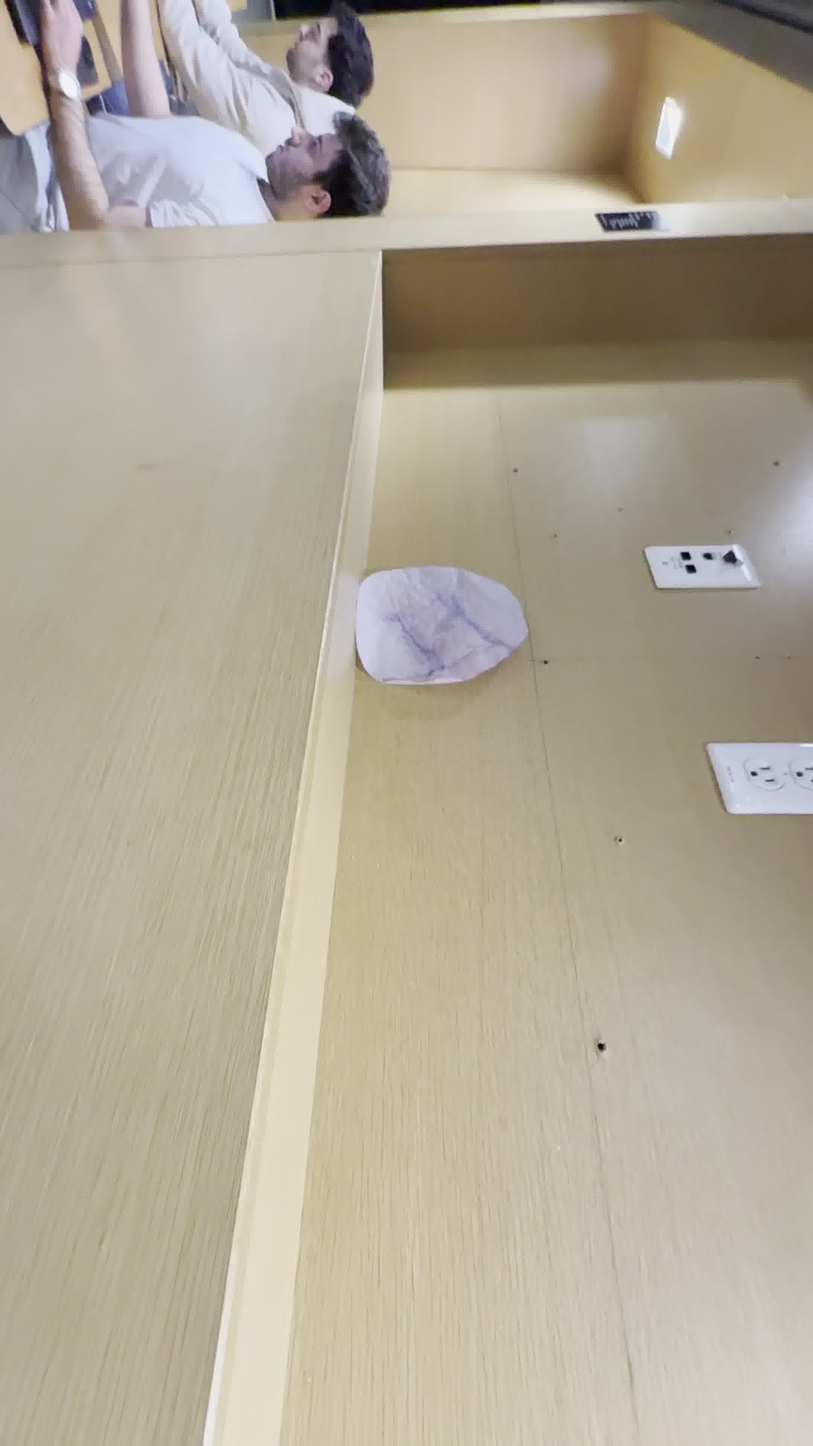Target: (352, 564, 529, 685)
